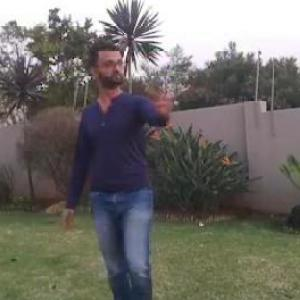takeoff-hand: (146, 74, 182, 123)
